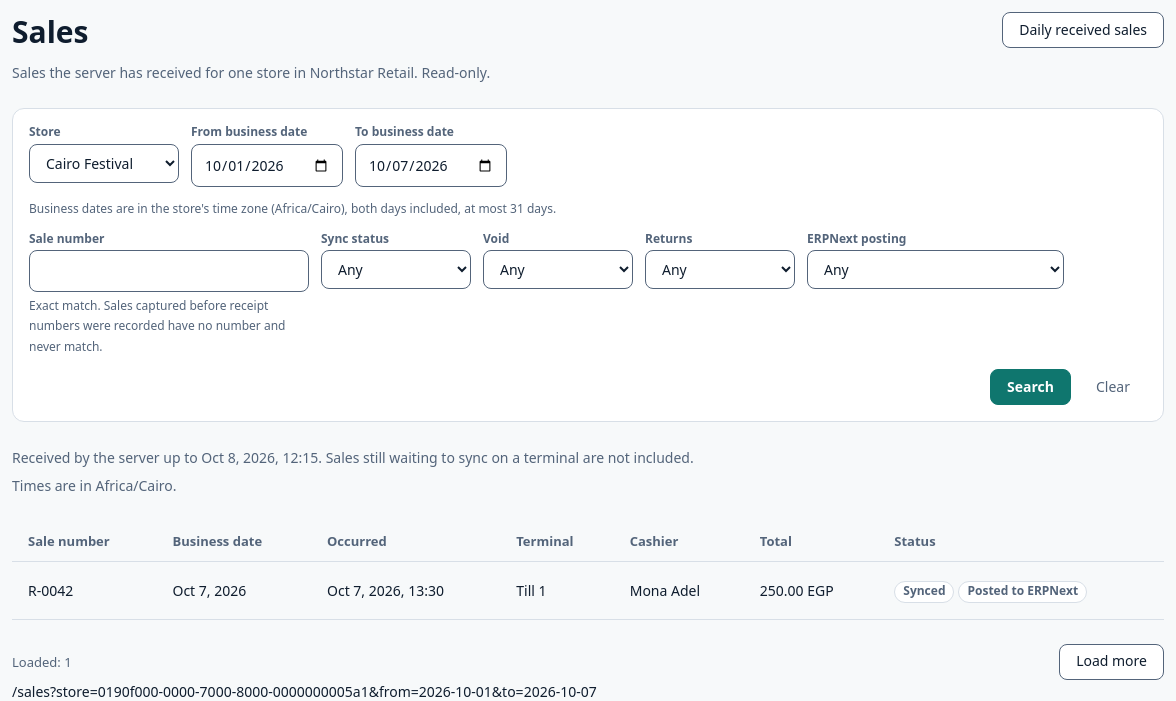
Test case: SaleList (RT-587, spec 012 J1) › a new filter restarts the walk without a cursor and drops the old rows (FR-006)
Click the button "Load more".
click(1112, 662)  # box [1059,644,1164,680]
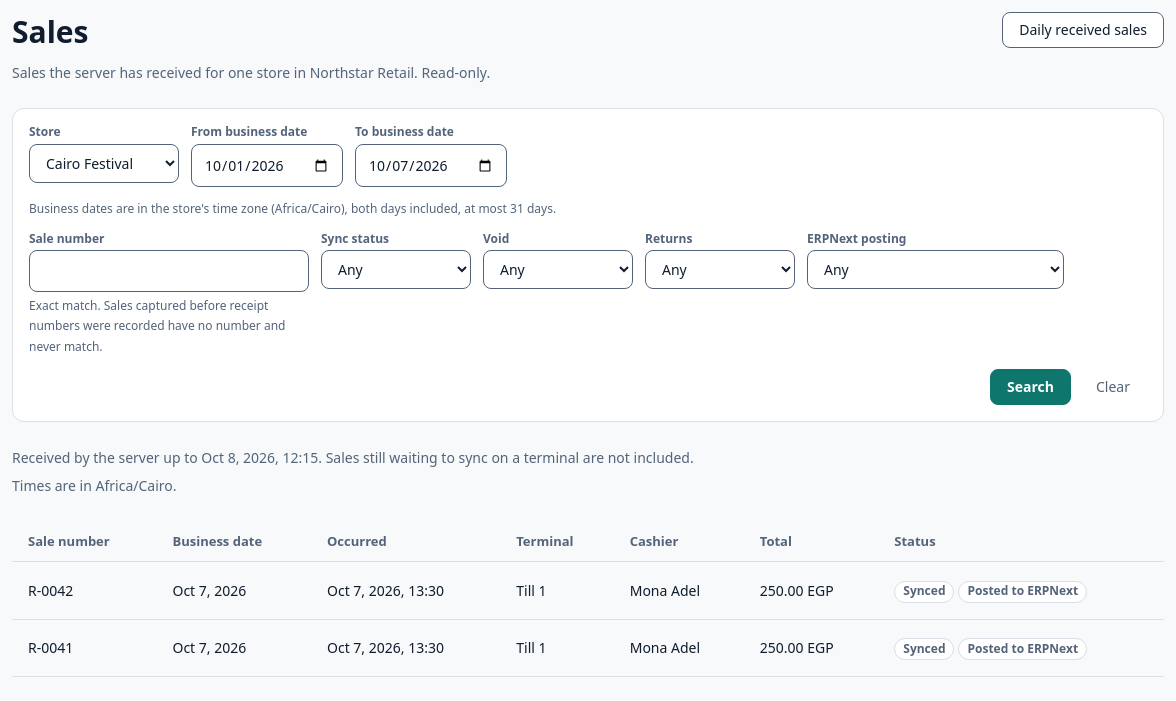
Result: the text "R-0041" is shown at [28,638,73,657]
Select "Voided only" in the dropdown labelled "Void" at (558,270), box [483,250,633,289]
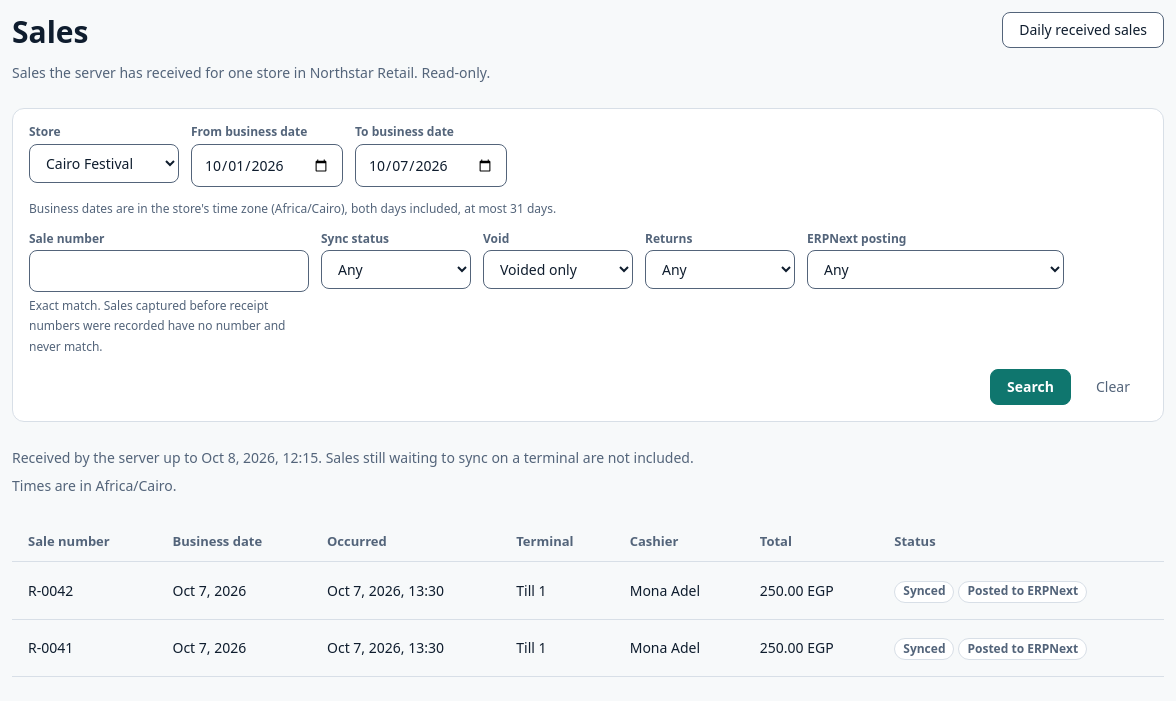
Click the button "Search".
click(1031, 387)  # box [990,369,1071,405]
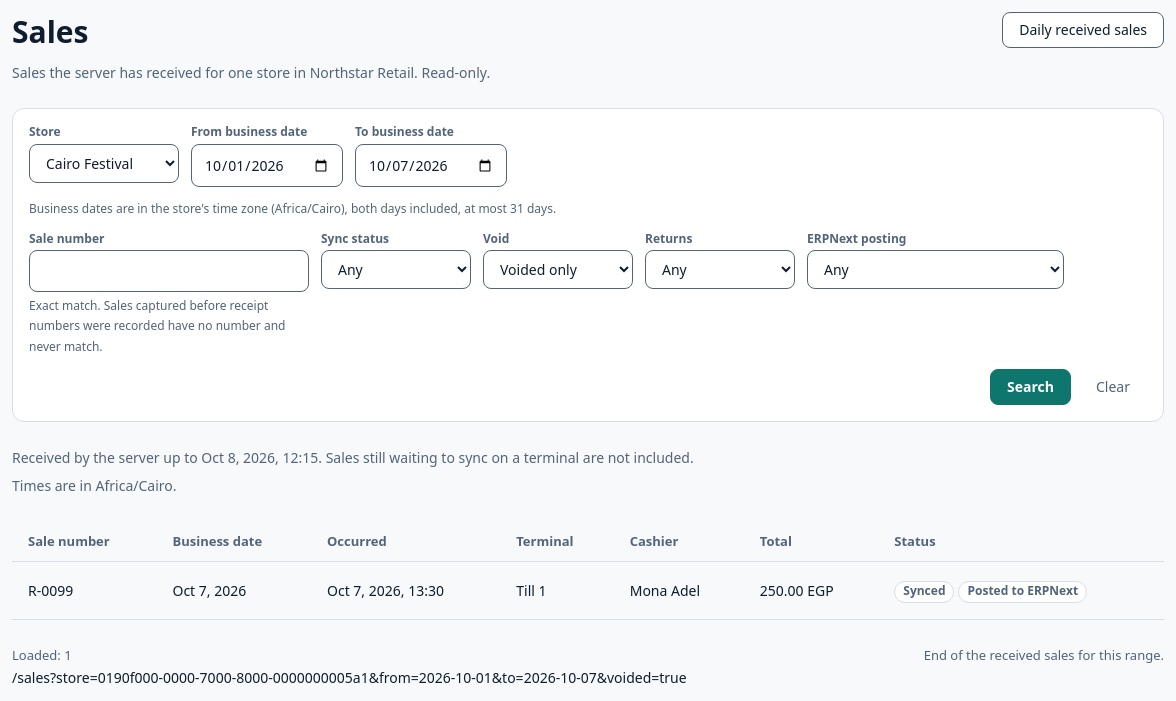
Result: the text "R-0099" is shown at [28,581,73,600]
Result: the text "R-0042" is gone
Result: the text "R-0041" is gone
